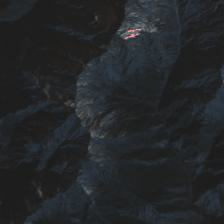landslides: (153, 0, 176, 9)
